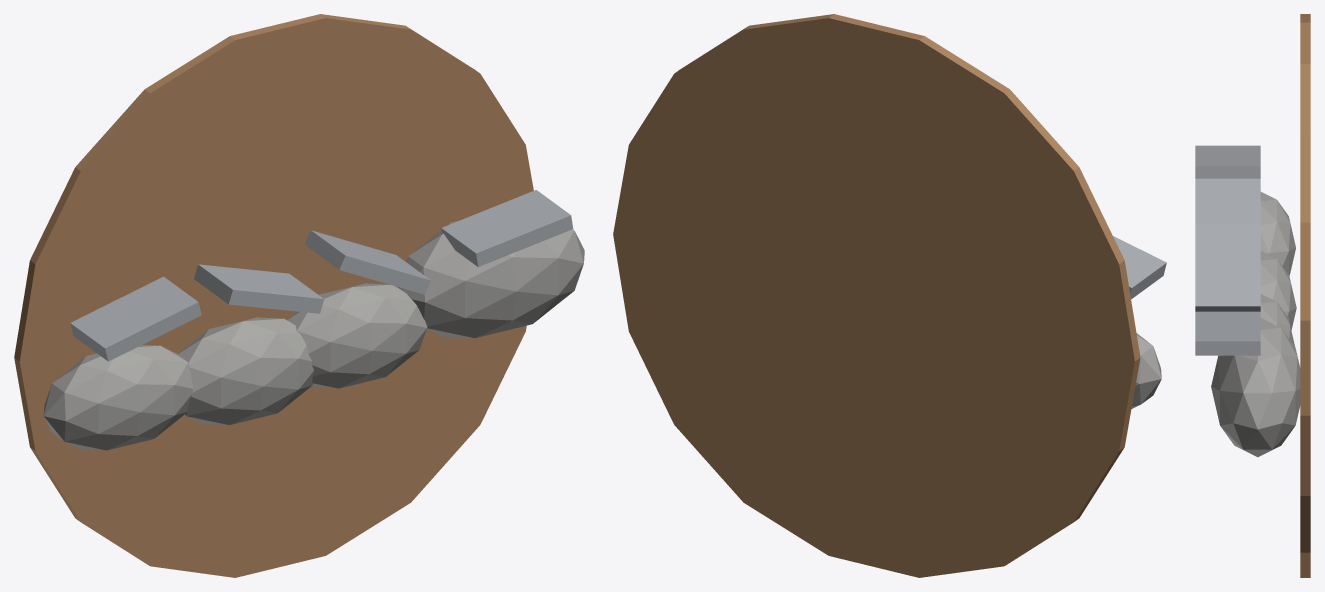
The model's file is 02_local_prop_cluster.glb.
The picture shows the model from 3 angles, left to right: view 1: azimuth 30°, elevation 25°; view 2: azimuth 150°, elevation 25°; view 3: azimuth 270°, elevation 25°; orthographic projection. The views are drawn at different scales.
Visible parts, largest first — view 1: scatter_base, scrap_rock_3, scrap_rock_0, scrap_rock_1, scrap_rock_2, scrap_plate_0, scrap_plate_3, scrap_plate_1, scrap_plate_2; view 2: scatter_base, scrap_plate_0, scrap_rock_0; view 3: scrap_rock_3, scatter_base, scrap_plate_2, scrap_plate_1, scrap_plate_3, scrap_plate_0, scrap_rock_0, scrap_rock_1, scrap_rock_2.
Part boxes in pixels (x1=…): scatter_base: x1=14, y1=14, x2=533, y2=577; scrap_rock_3: x1=398, y1=220, x2=584, y2=338; scrap_rock_0: x1=43, y1=345, x2=193, y2=450; scrap_rock_1: x1=177, y1=317, x2=313, y2=425; scrap_rock_2: x1=287, y1=283, x2=427, y2=388; scrap_plate_0: x1=70, y1=276, x2=201, y2=361; scrap_plate_3: x1=441, y1=190, x2=573, y2=267; scrap_plate_1: x1=194, y1=264, x2=324, y2=313; scrap_plate_2: x1=304, y1=230, x2=430, y2=294; scatter_base: x1=613, y1=14, x2=1140, y2=577; scrap_plate_0: x1=1113, y1=236, x2=1166, y2=299; scrap_rock_0: x1=1131, y1=333, x2=1161, y2=408; scrap_rock_3: x1=1211, y1=318, x2=1300, y2=457; scatter_base: x1=1300, y1=14, x2=1310, y2=577; scrap_plate_2: x1=1195, y1=224, x2=1260, y2=311; scrap_plate_1: x1=1195, y1=178, x2=1260, y2=223; scrap_plate_3: x1=1195, y1=311, x2=1260, y2=355; scrap_plate_0: x1=1195, y1=145, x2=1260, y2=178; scrap_rock_0: x1=1260, y1=192, x2=1295, y2=275; scrap_rock_1: x1=1260, y1=251, x2=1296, y2=330; scrap_rock_2: x1=1260, y1=294, x2=1294, y2=346.
Bounding box in the file's own units: 1.98 × 1.87 × 0.3875.
